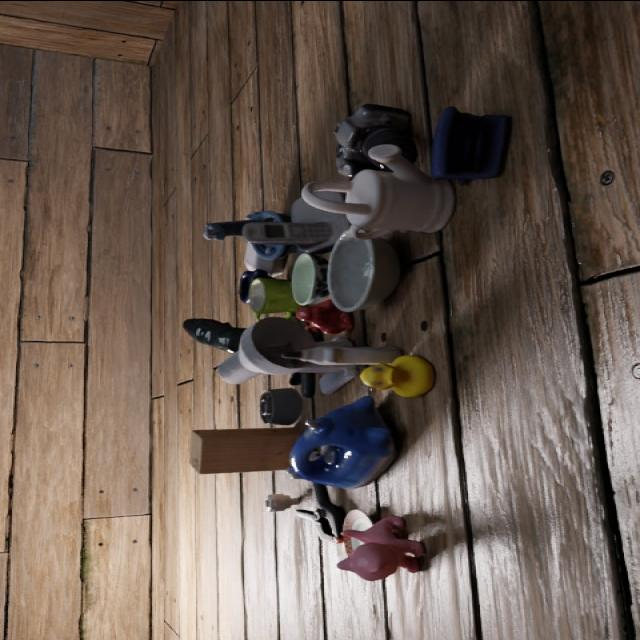Other Objects: (301, 145, 455, 239), (216, 317, 357, 394), (288, 396, 396, 488), (431, 107, 509, 182), (335, 104, 416, 175), (337, 516, 424, 581), (189, 425, 301, 473), (328, 238, 400, 311), (360, 355, 435, 397), (295, 484, 344, 542), (281, 345, 401, 365), (243, 221, 339, 246), (183, 318, 243, 352), (248, 277, 299, 316), (291, 253, 327, 305), (260, 388, 303, 426), (343, 509, 373, 531), (265, 494, 299, 511), (339, 538, 363, 555), (275, 401, 285, 410), (373, 202, 387, 207)
